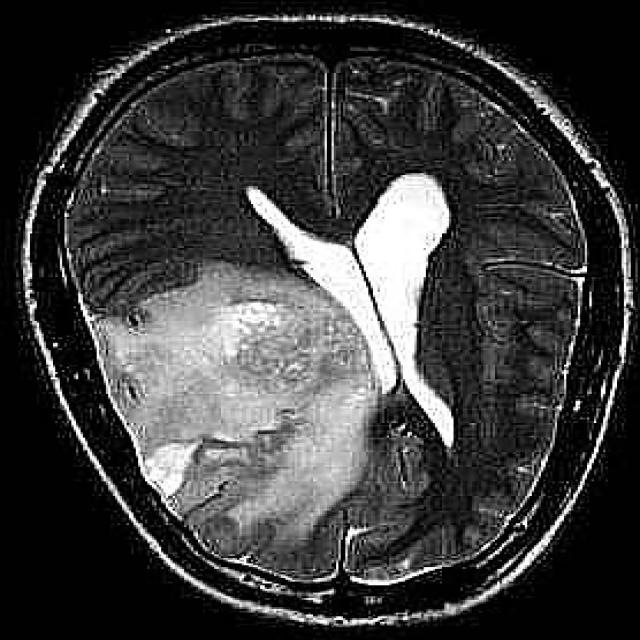Tumor-Cell: (83, 290, 411, 541)
